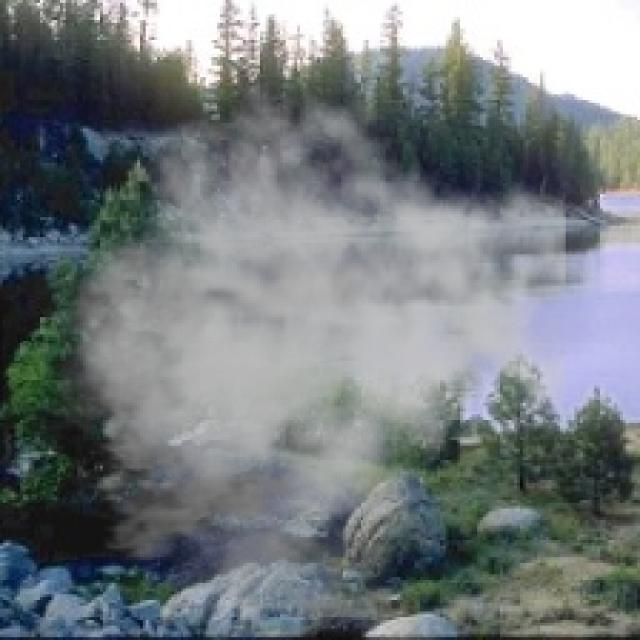smoke: (23, 77, 566, 623)
